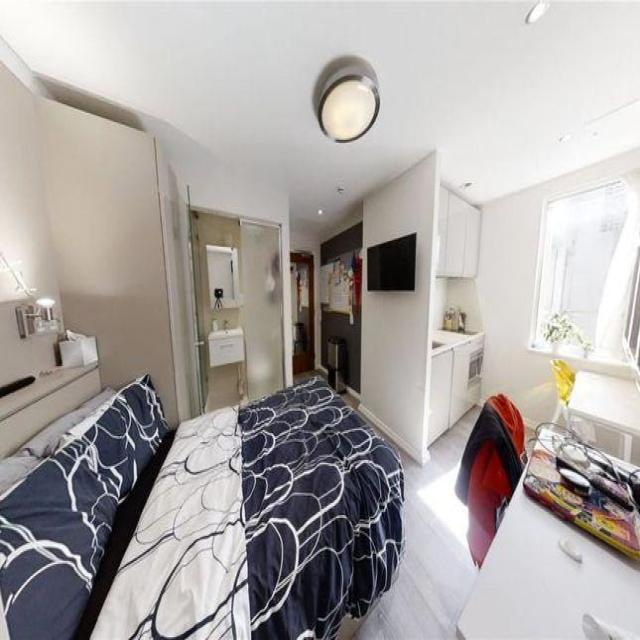Wall: (0, 0, 640, 232), (39, 77, 291, 383), (0, 64, 190, 425), (434, 148, 640, 421), (341, 407, 480, 639), (361, 152, 440, 464), (193, 212, 240, 331), (564, 355, 632, 378)
